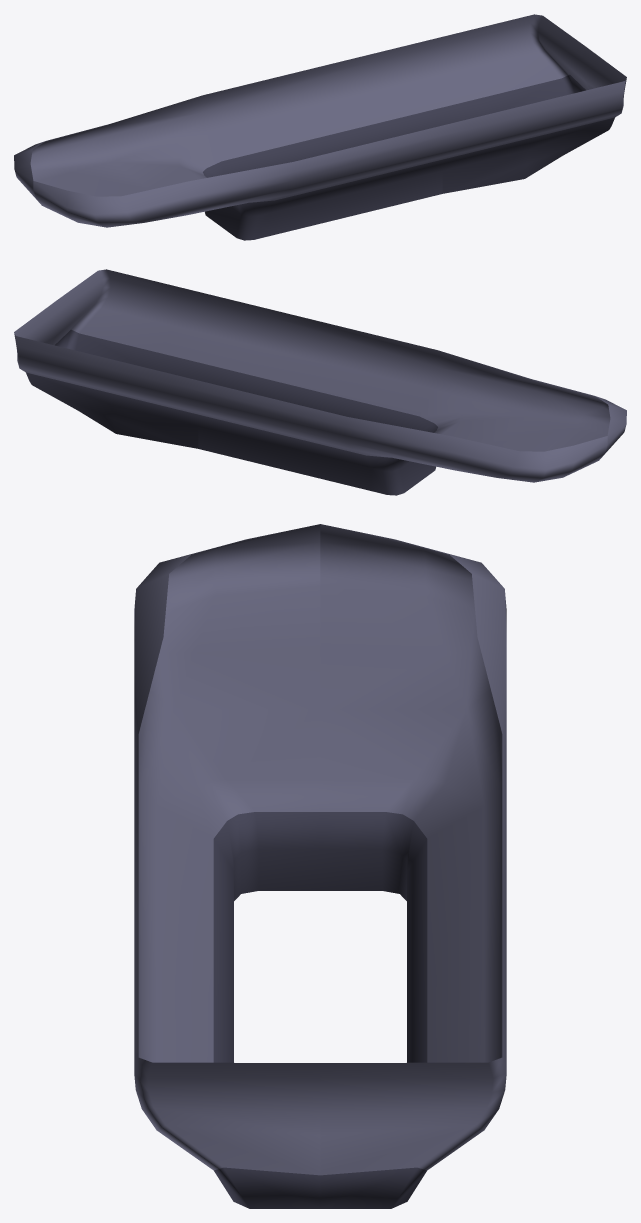
Rendered from Connector.fbx.
The picture shows the model from 3 angles, top to bottom: view 1: azimuth 30°, elevation 25°; view 2: azimuth 150°, elevation 25°; view 3: azimuth 270°, elevation 25°; orthographic projection. The views are drawn at different scales.
Visible parts, largest first — view 1: Sponson; view 2: Sponson; view 3: Sponson.
Part boxes in pixels (x1,y1,x2,y2): Sponson: (14,14,626,240); Sponson: (14,269,626,495); Sponson: (134,524,506,1208).
Size of the model in its own units: 649 by 112 by 187.
